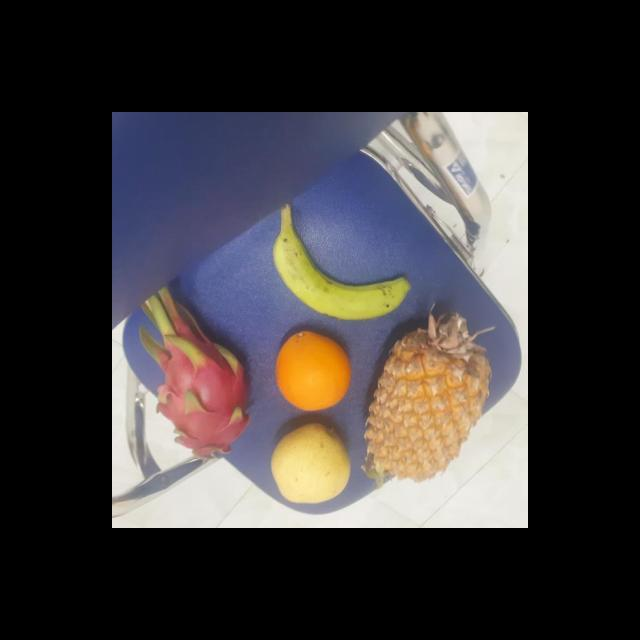banana: (270, 223, 412, 324)
orange: (267, 328, 354, 412)
pear: (266, 424, 354, 508)
pineapple: (358, 309, 488, 486)
pitaya: (153, 342, 250, 456)
